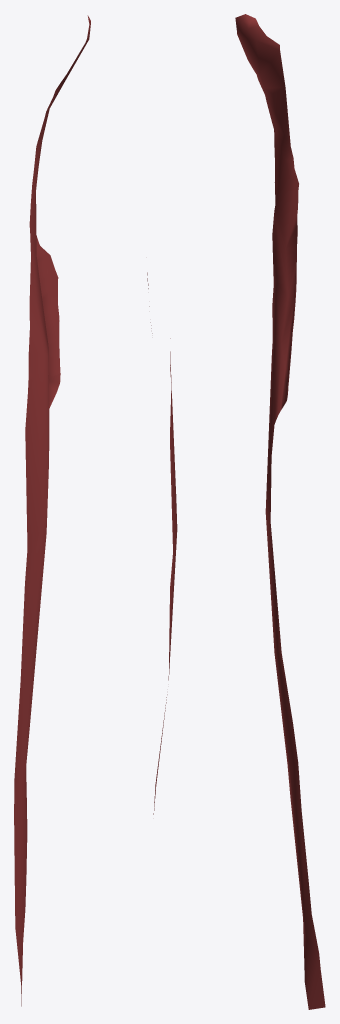
The model's file is extensor-digitorum-longus-o1r.glb.
The picture shows the model from 3 angles, left to right: view 1: azimuth 90°, elevation 25°; view 2: azimuth 150°, elevation 25°; view 3: azimuth 330°, elevation 25°; orthographic projection. The views are drawn at different scales.
Parts seen in each view (by area): view 1: Extensor digitorum longus.o1r; view 2: Extensor digitorum longus.o1r; view 3: Extensor digitorum longus.o1r.
Part boxes in pixels (x1,y1,x2,y2): Extensor digitorum longus.o1r: (14,15,90,1006); Extensor digitorum longus.o1r: (147,272,177,814); Extensor digitorum longus.o1r: (235,14,325,1009).
Bounding box in the file's own units: 0.0138 × 0.2445 × 0.0169.
